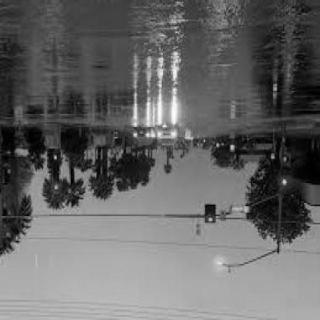other: (128, 106, 182, 146), (46, 9, 63, 113), (279, 28, 297, 102), (275, 149, 289, 197), (202, 200, 218, 231), (211, 254, 225, 274), (47, 176, 60, 197)
